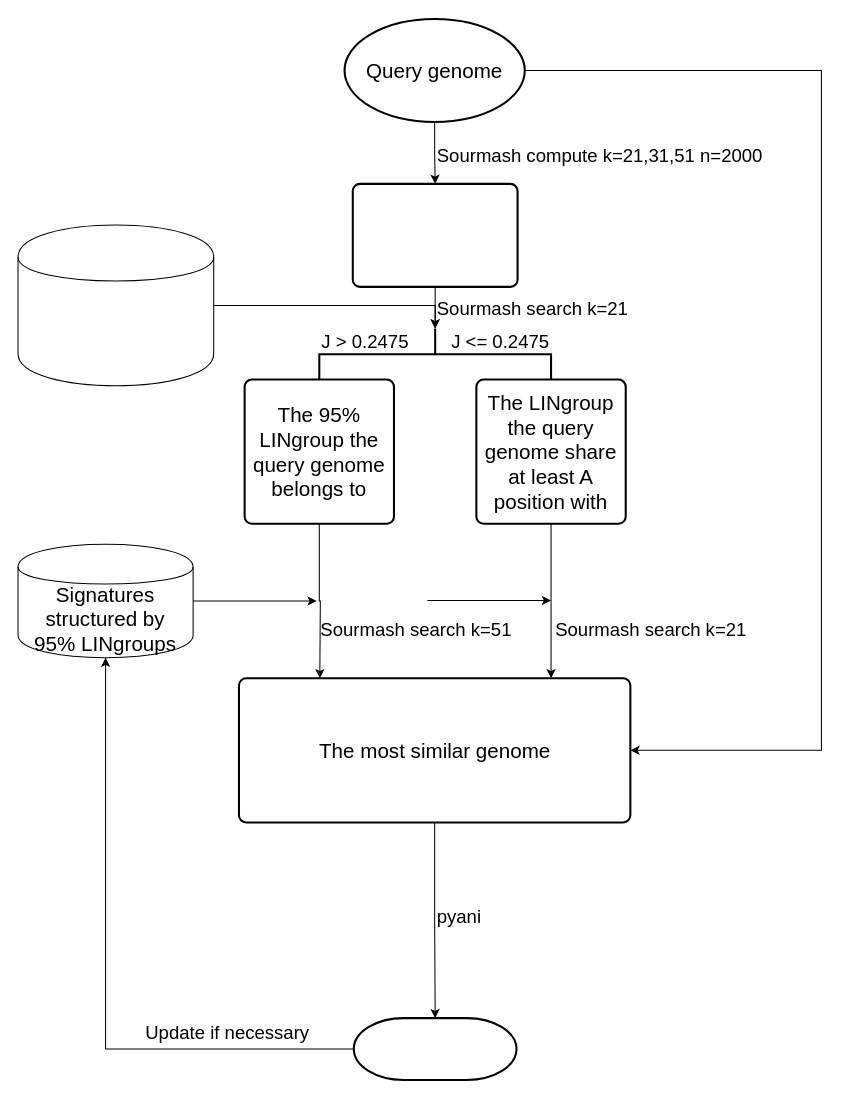
Some shapes in this 848 by 1098 pixel diagram are drawn without their labels. Each missing label, with the centre of its shape:
LIN, ANI: the point at 434,1048
Query signature: the point at 434,234
Representative signature of each 95% LINgroup: the point at 115,305
